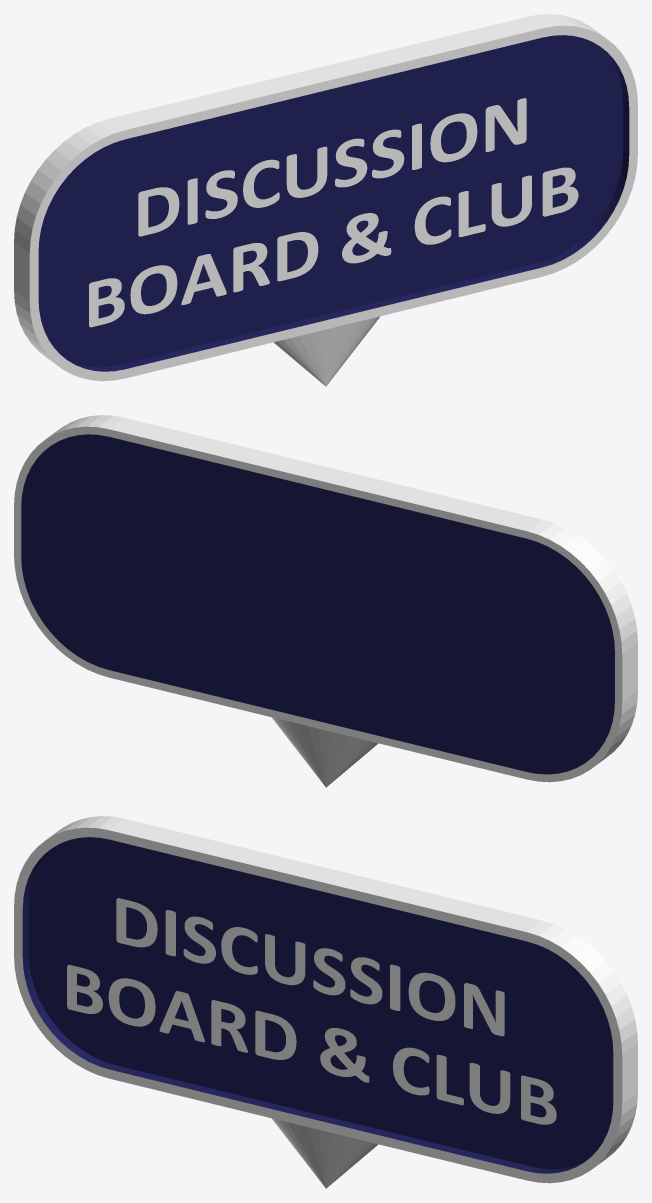
Rendered from DiscussionBoard&ClubHoverd.glb.
The picture shows the model from 3 angles, top to bottom: view 1: azimuth 30°, elevation 25°; view 2: azimuth 150°, elevation 25°; view 3: azimuth 330°, elevation 25°; orthographic projection.
Visible parts, largest first — view 1: 立方体, 文本, 立方体.001, 立方体.002, 立方体.004; view 2: 立方体, 立方体.003, 立方体.002, 立方体.004; view 3: 立方体, 文本, 立方体.001, 立方体.002, 立方体.004.
Part boxes in pixels (box(x1,y1,x2,y2)): 立方体: box(38, 35, 629, 371); 文本: box(89, 98, 578, 327); 立方体.001: box(29, 25, 637, 381); 立方体.002: box(14, 14, 603, 366); 立方体.004: box(273, 316, 380, 386); 立方体: box(21, 434, 614, 774); 立方体.003: box(14, 426, 622, 782); 立方体.002: box(48, 415, 637, 767); 立方体.004: box(271, 717, 378, 787); 立方体: box(22, 837, 613, 1173); 文本: box(67, 898, 556, 1124); 立方体.001: box(14, 827, 622, 1183); 立方体.002: box(48, 816, 637, 1168); 立方体.004: box(271, 1118, 378, 1188).
Bounding box in the file's own units: 5.13 × 2.52 × 0.2745.
